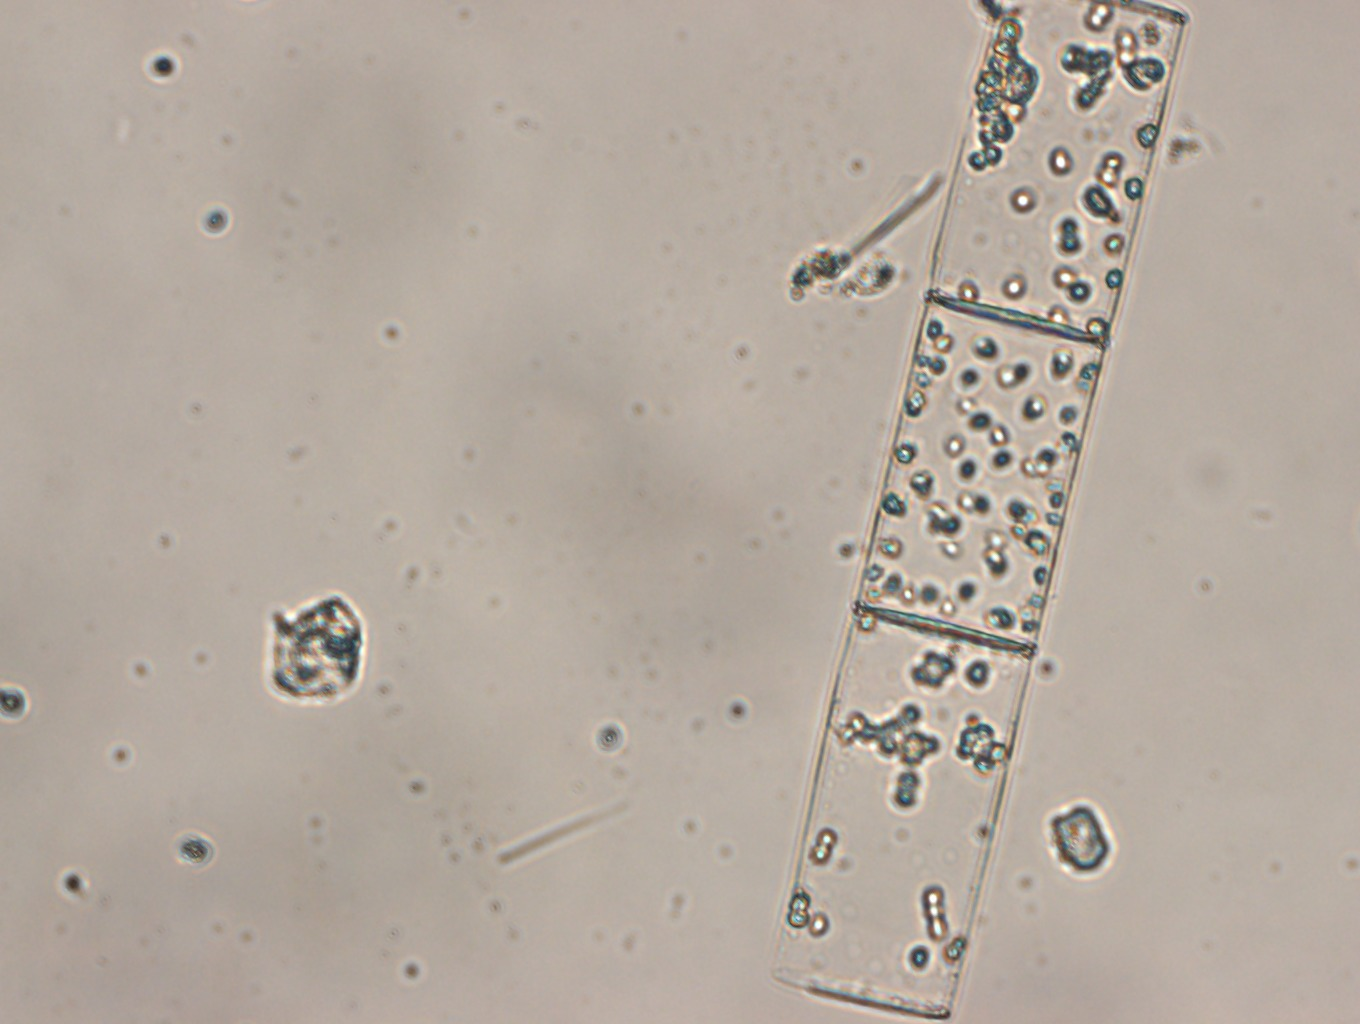guinardia flaccida: (769, 1, 1189, 1024)
